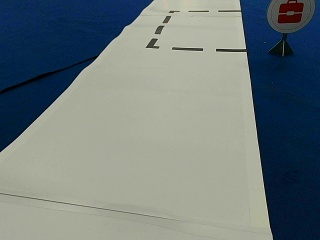company: (267, 0, 314, 32)
